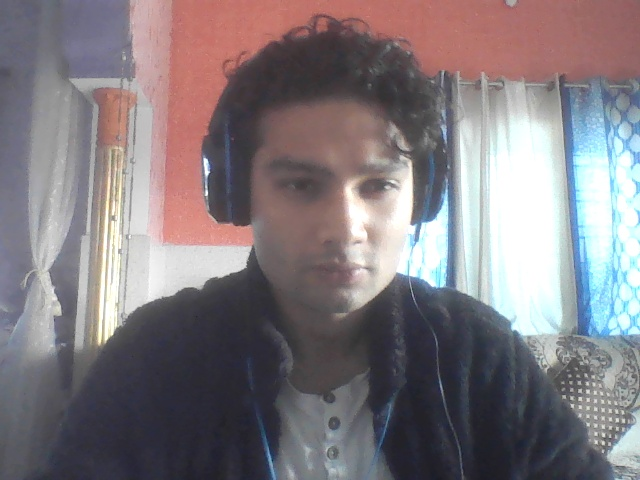real: (216, 21, 440, 338)
